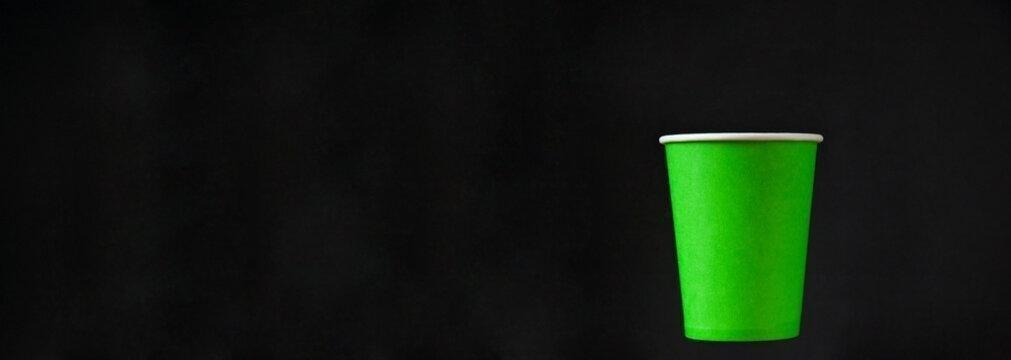cup-disposable: (656, 121, 828, 350)
